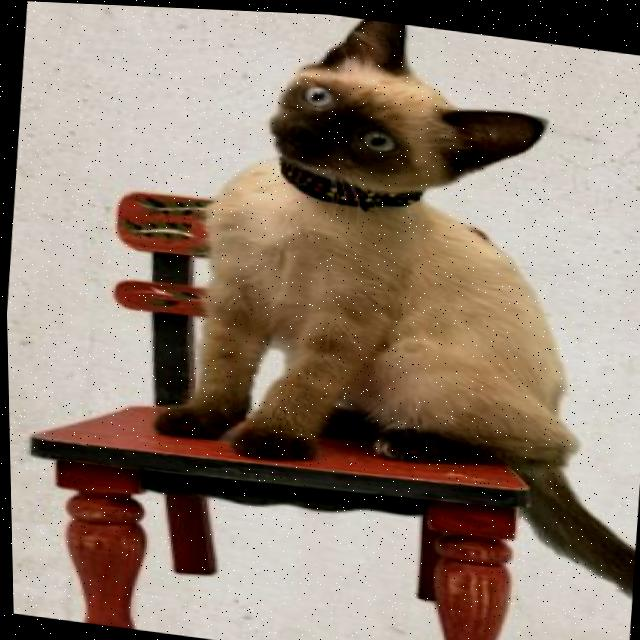Siamese: (124, 4, 640, 599)
